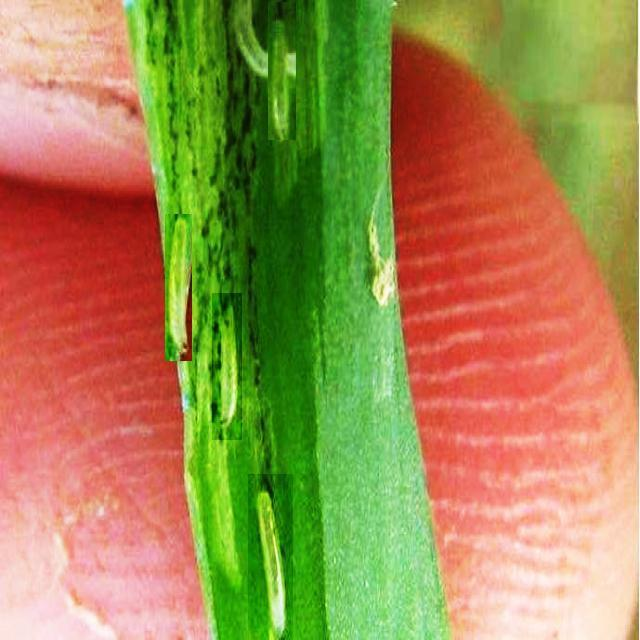whorl-maggot: (248, 474, 293, 640), (224, 0, 282, 91), (212, 293, 242, 440), (165, 214, 192, 361), (268, 2, 296, 140)
